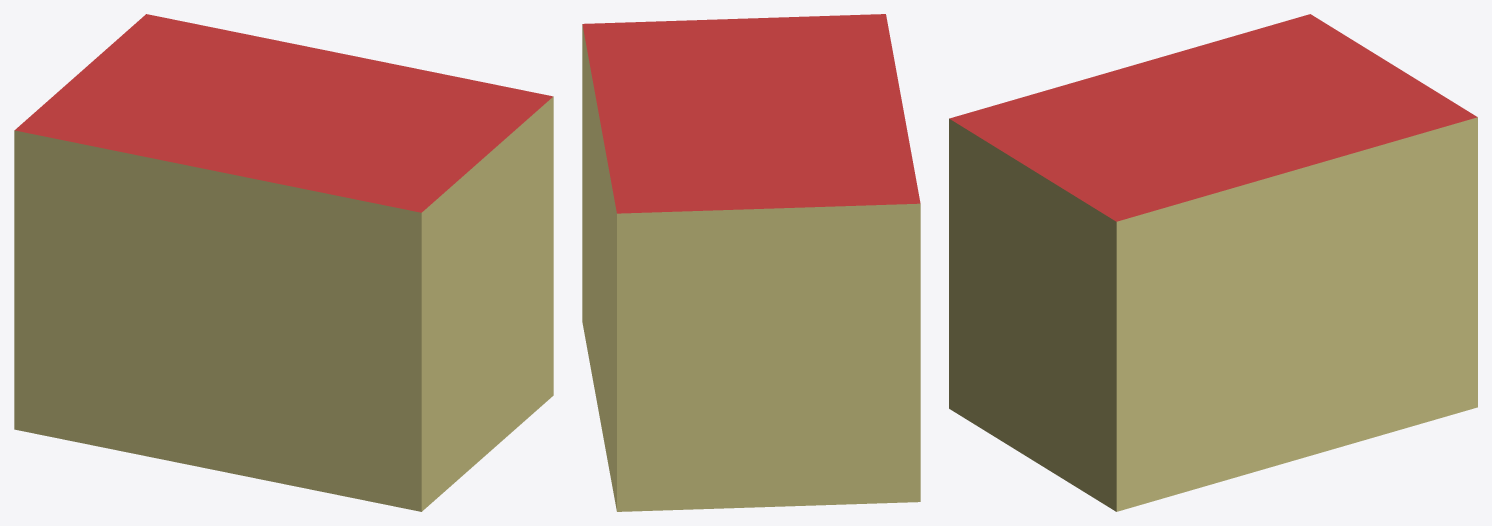
3 views of the same model, side by side, from view 1: azimuth 30°, elevation 25°; view 2: azimuth 150°, elevation 25°; view 3: azimuth 270°, elevation 25° (orthographic). The views are drawn at different scales.
Size of the model in its own units: 8.27 by 8.89 by 5.38.
